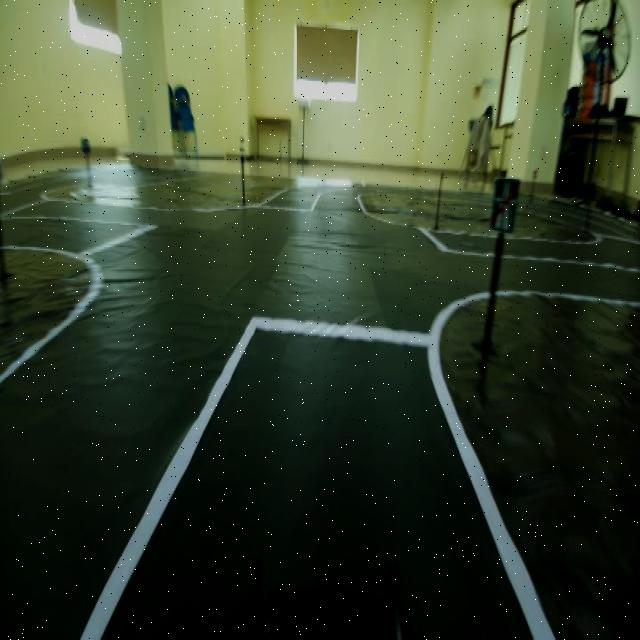highway_exit: (488, 174, 522, 239)
